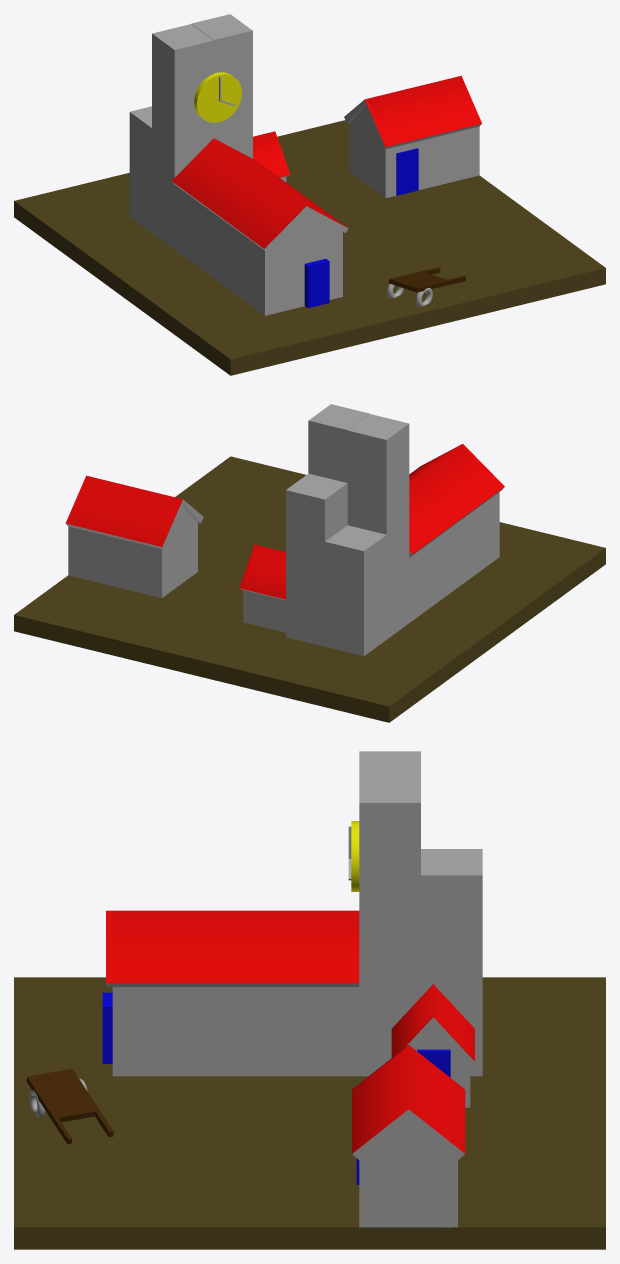
Rendered from blockout test great,fire.fbx.
The picture shows the model from 3 angles, top to bottom: view 1: azimuth 30°, elevation 25°; view 2: azimuth 150°, elevation 25°; view 3: azimuth 270°, elevation 25°; orthographic projection. The views are drawn at different scales.
Visible parts, largest first — view 1: pCube1, pCube2, pCube3, pCube5, pCylinder1, pCube9, pCube4, pCube6, pCube11; view 2: pCube1, pCube3, pCube5, pCube2, pCube4; view 3: pCube1, pCube2, pCube3, pCube5, pCube4, pCube6, pCube9.
Part boxes in pixels (box(x1,y1,x2,y2)): pCube1: box(14, 120, 605, 375); pCube2: box(172, 138, 348, 315); pCube3: box(129, 14, 252, 249); pCube5: box(344, 75, 481, 197); pCylinder1: box(194, 72, 241, 122); pCube9: box(304, 258, 329, 307); pCube4: box(253, 131, 290, 182); pCube6: box(388, 267, 466, 292); pCube11: box(396, 148, 418, 195); pCube1: box(14, 456, 605, 722); pCube3: box(286, 404, 409, 656); pCube5: box(65, 475, 203, 597); pCube2: box(409, 444, 504, 622); pCube4: box(239, 544, 285, 632); pCube1: box(14, 977, 605, 1249); pCube2: box(106, 910, 359, 1076); pCube3: box(359, 751, 482, 1076); pCube5: box(352, 1045, 465, 1227); pCube4: box(391, 984, 474, 1107); pCube6: box(26, 1068, 113, 1144); pCube9: box(102, 992, 112, 1063).
Size of the model in its own units: 0.24 by 0.1323 by 0.24.
